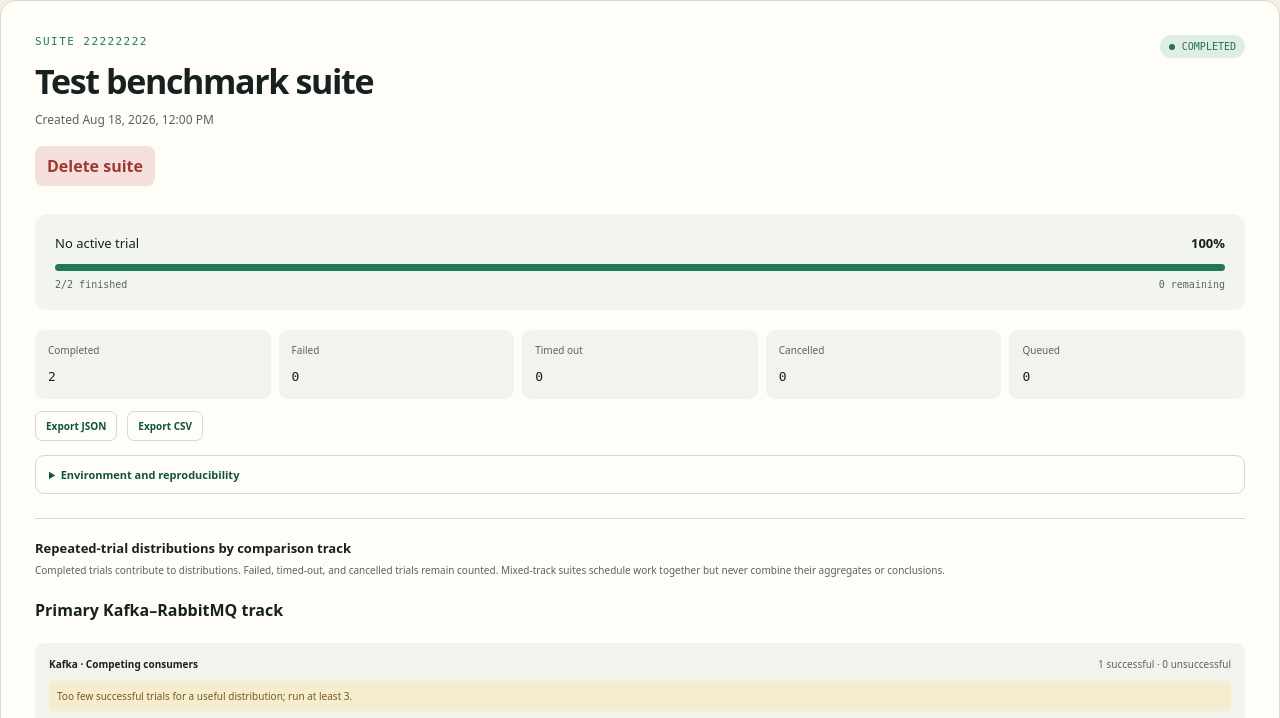
dashboard components › shows the resolved workload and privacy-conscious environment provenance
Click the heading "Environment and reproducibility": (150, 474) [61, 467, 239, 482]
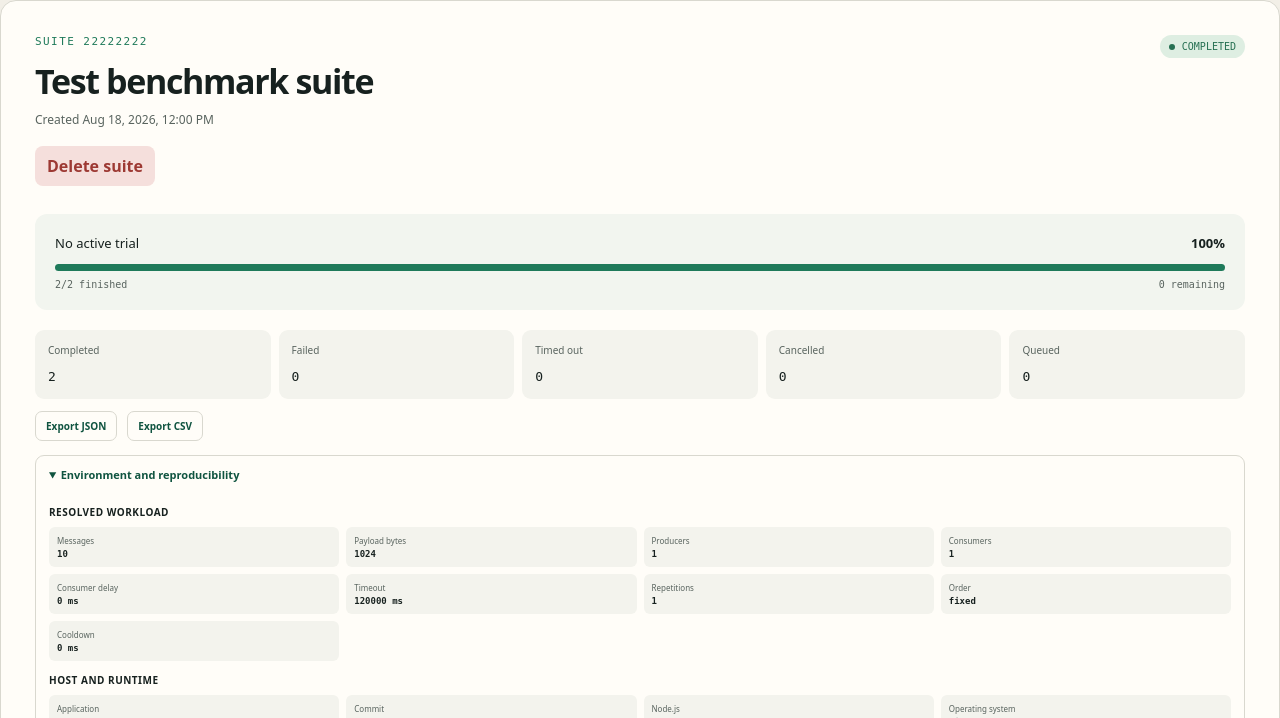
Expected: the text "fixed" is shown, [949, 596, 976, 606]
